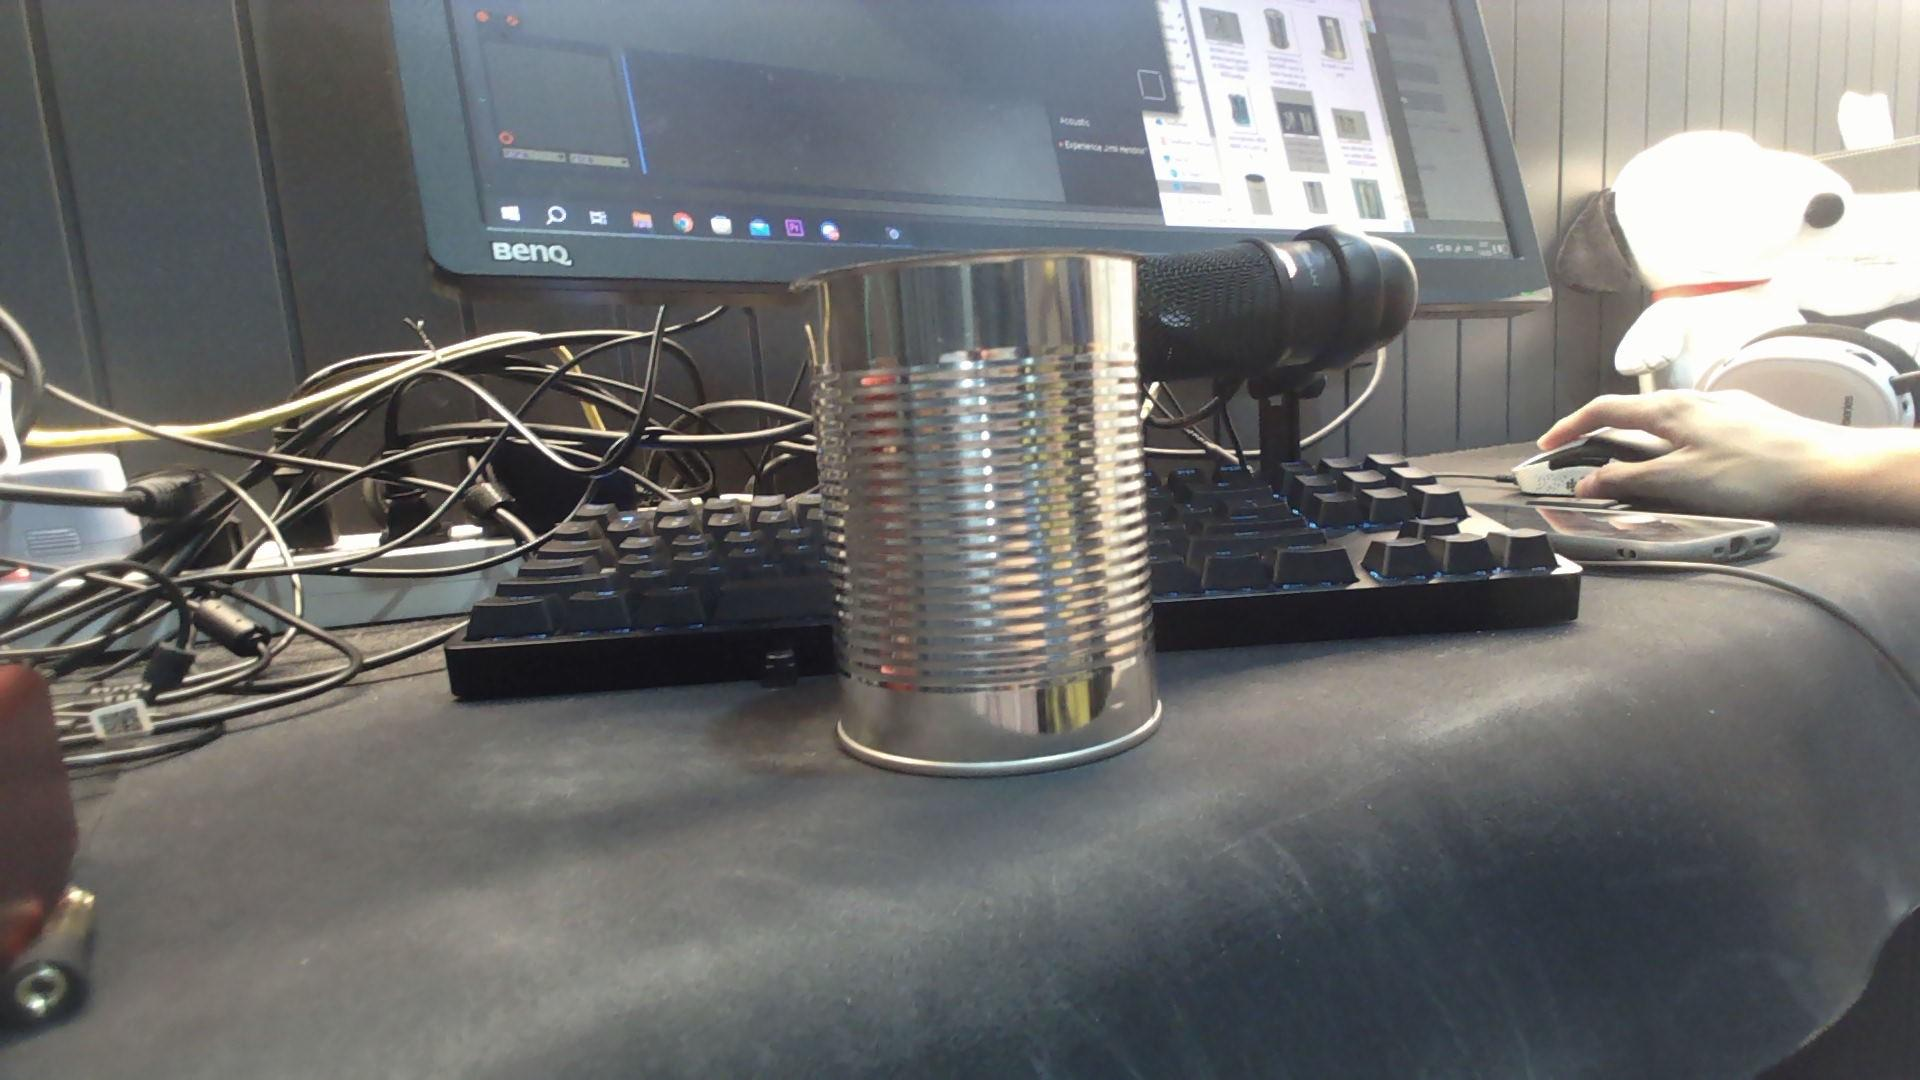metal: (814, 256, 1160, 775)
